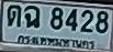letters: (23, 5, 41, 30), (6, 4, 22, 30), (95, 9, 110, 35), (49, 6, 64, 31), (80, 8, 94, 34), (65, 8, 79, 33)
province: (16, 34, 96, 50)
